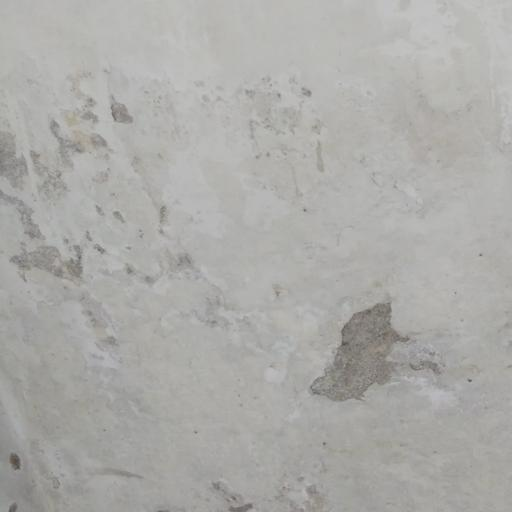peeling: (0, 54, 167, 343), (295, 282, 466, 427)
